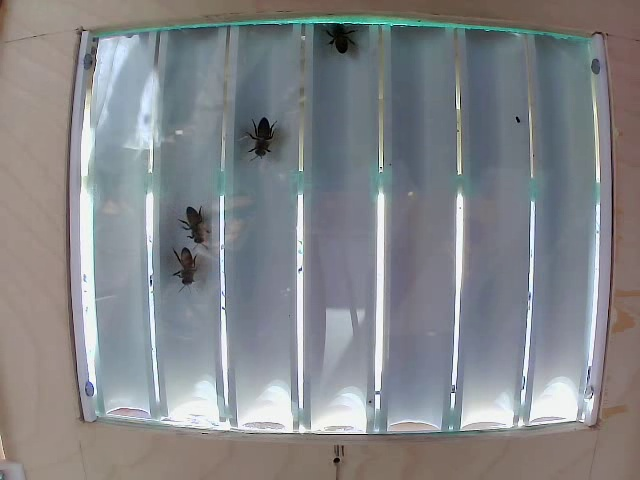bee: (242, 107, 287, 165), (177, 204, 223, 254), (325, 20, 362, 67), (177, 248, 209, 288)
